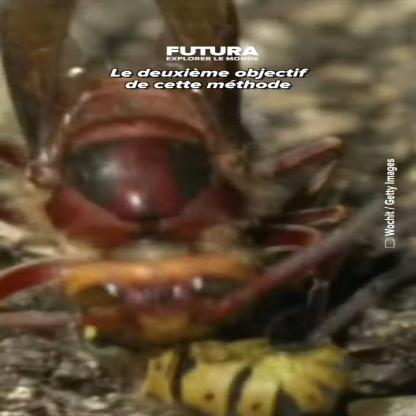hornet: (0, 99, 348, 415)
